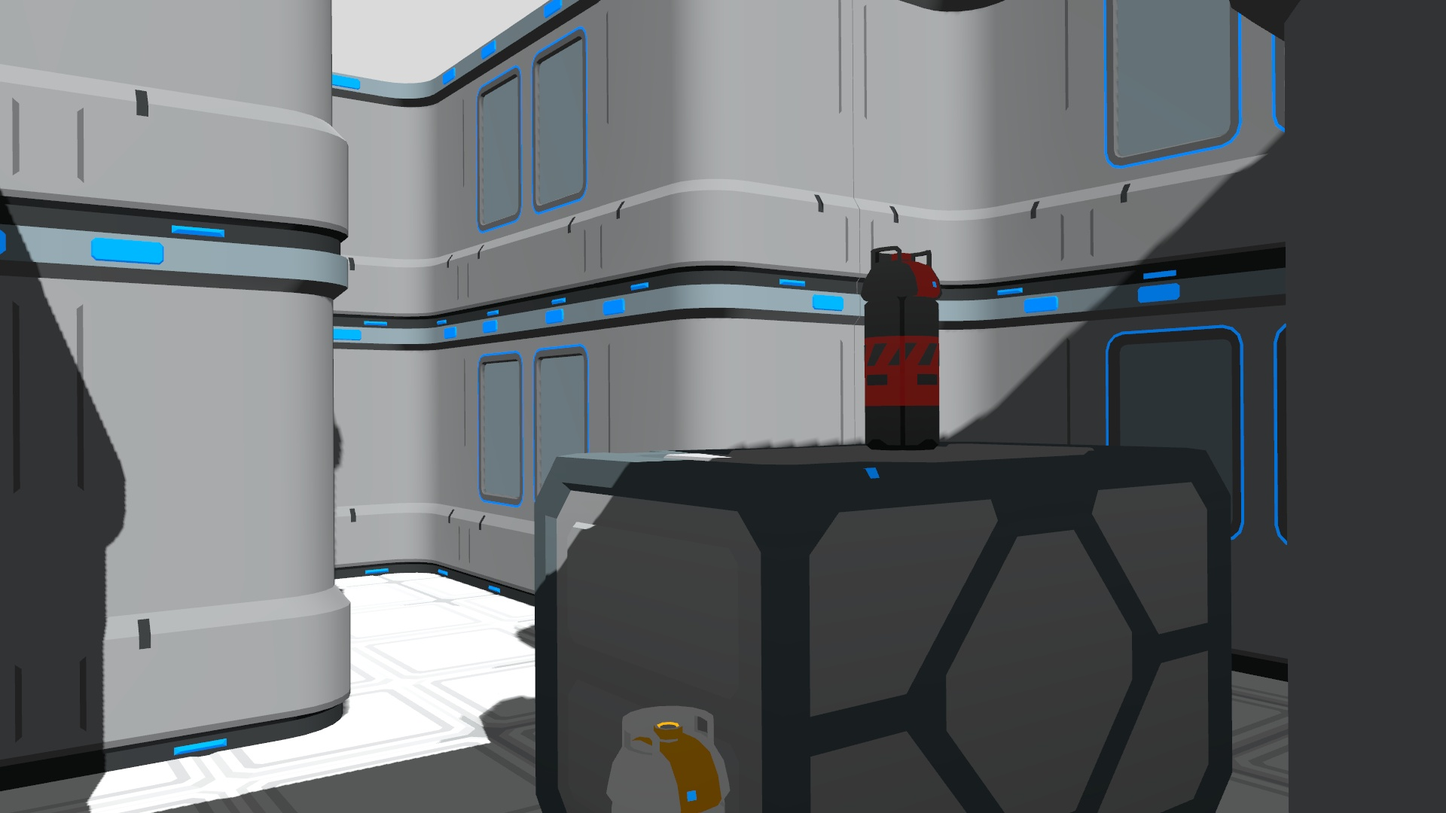red_barrel: (862, 241, 943, 454)
yellow_barrel: (606, 705, 732, 813)
